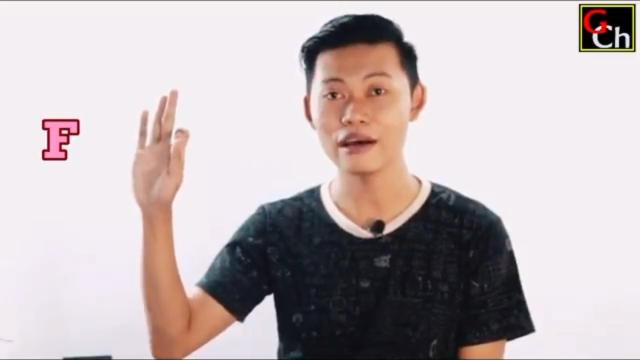F: (130, 86, 190, 207)
